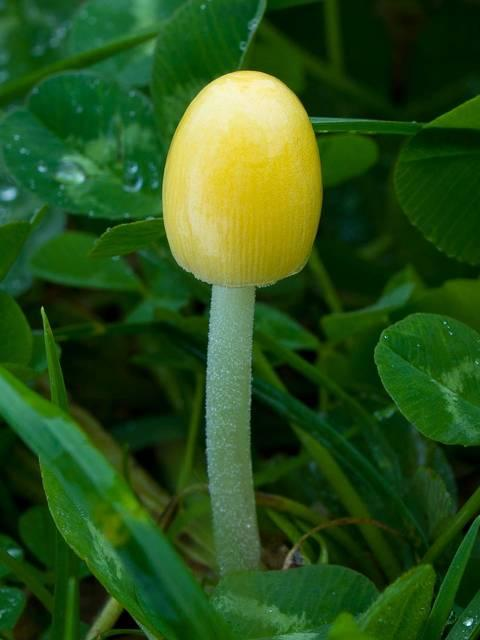edible_mushroom: (160, 68, 323, 578)
